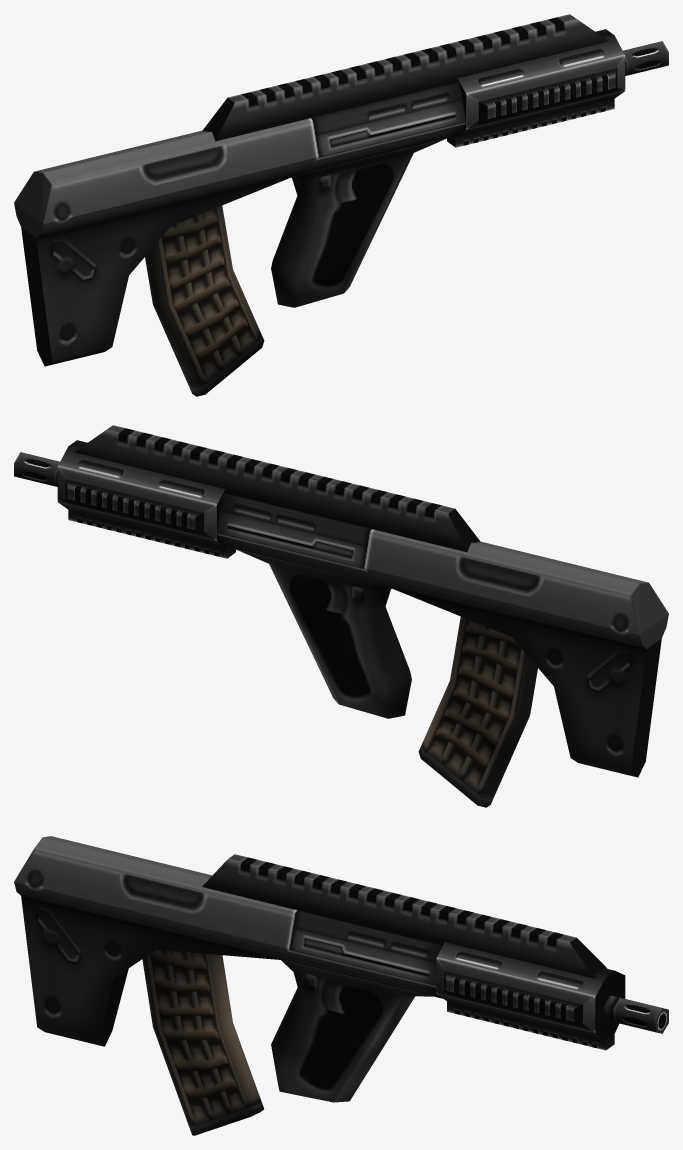
The model's file is aug a3 lv1.FBX.
3 renders of one model, top to bottom at view 1: azimuth 30°, elevation 25°; view 2: azimuth 150°, elevation 25°; view 3: azimuth 330°, elevation 25°, orthographic.
Visible parts, largest first — view 1: Object124; view 2: Object124; view 3: Object124.
Part boxes in pixels (x1,y1,x2,y2): Object124: [14, 14, 668, 396]; Object124: [14, 425, 668, 807]; Object124: [14, 836, 668, 1135].
Size of the model in its own units: 74.85 by 32.28 by 8.53.
